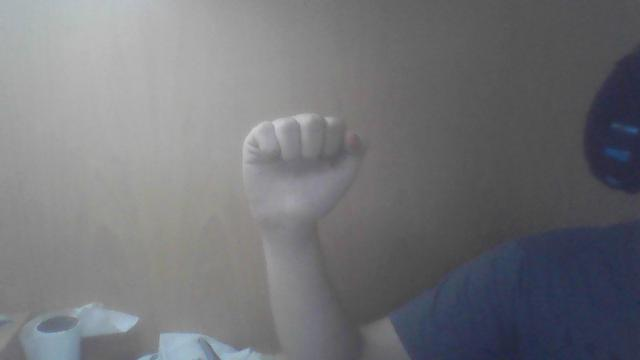forward: (240, 111, 364, 227)
